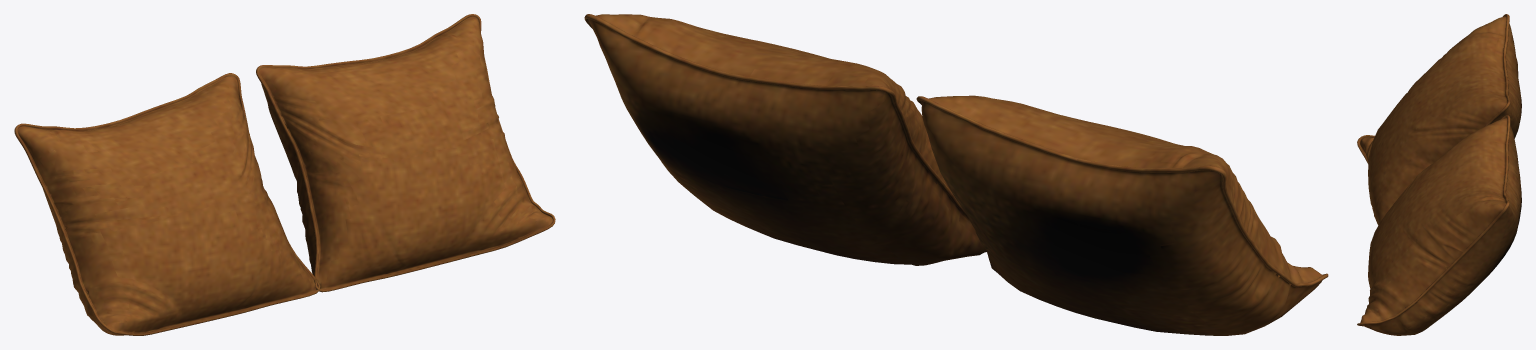
Rendered from chuang01.15.obj.
3 views of the same model, side by side, from view 1: azimuth 30°, elevation 25°; view 2: azimuth 150°, elevation 25°; view 3: azimuth 270°, elevation 25° (orthographic). The views are drawn at different scales.
Visible parts, largest first — view 1: 089; view 2: 089; view 3: 089.
Boxes of the visible parts, left/top/right/bottom form: 089: left=14, top=14, right=555, bottom=335; 089: left=584, top=14, right=1328, bottom=335; 089: left=1357, top=14, right=1521, bottom=335.
Size of the model in its own units: 87.32 by 31.96 by 31.33.
